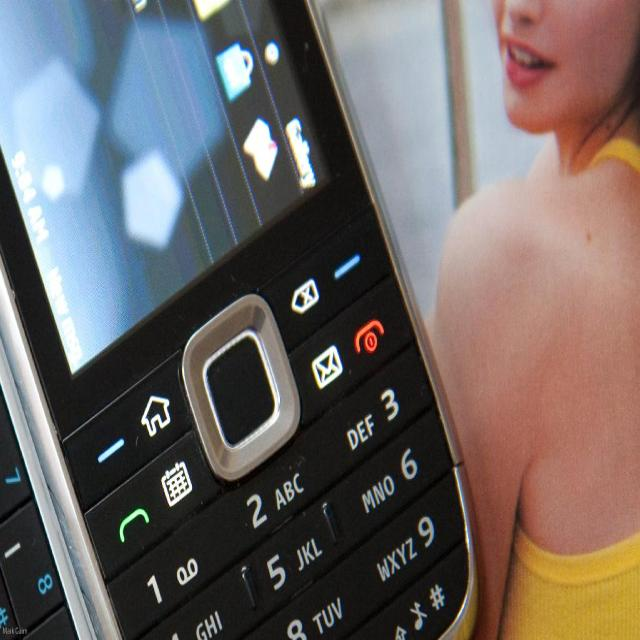Mobile-phone: (0, 0, 479, 639)
